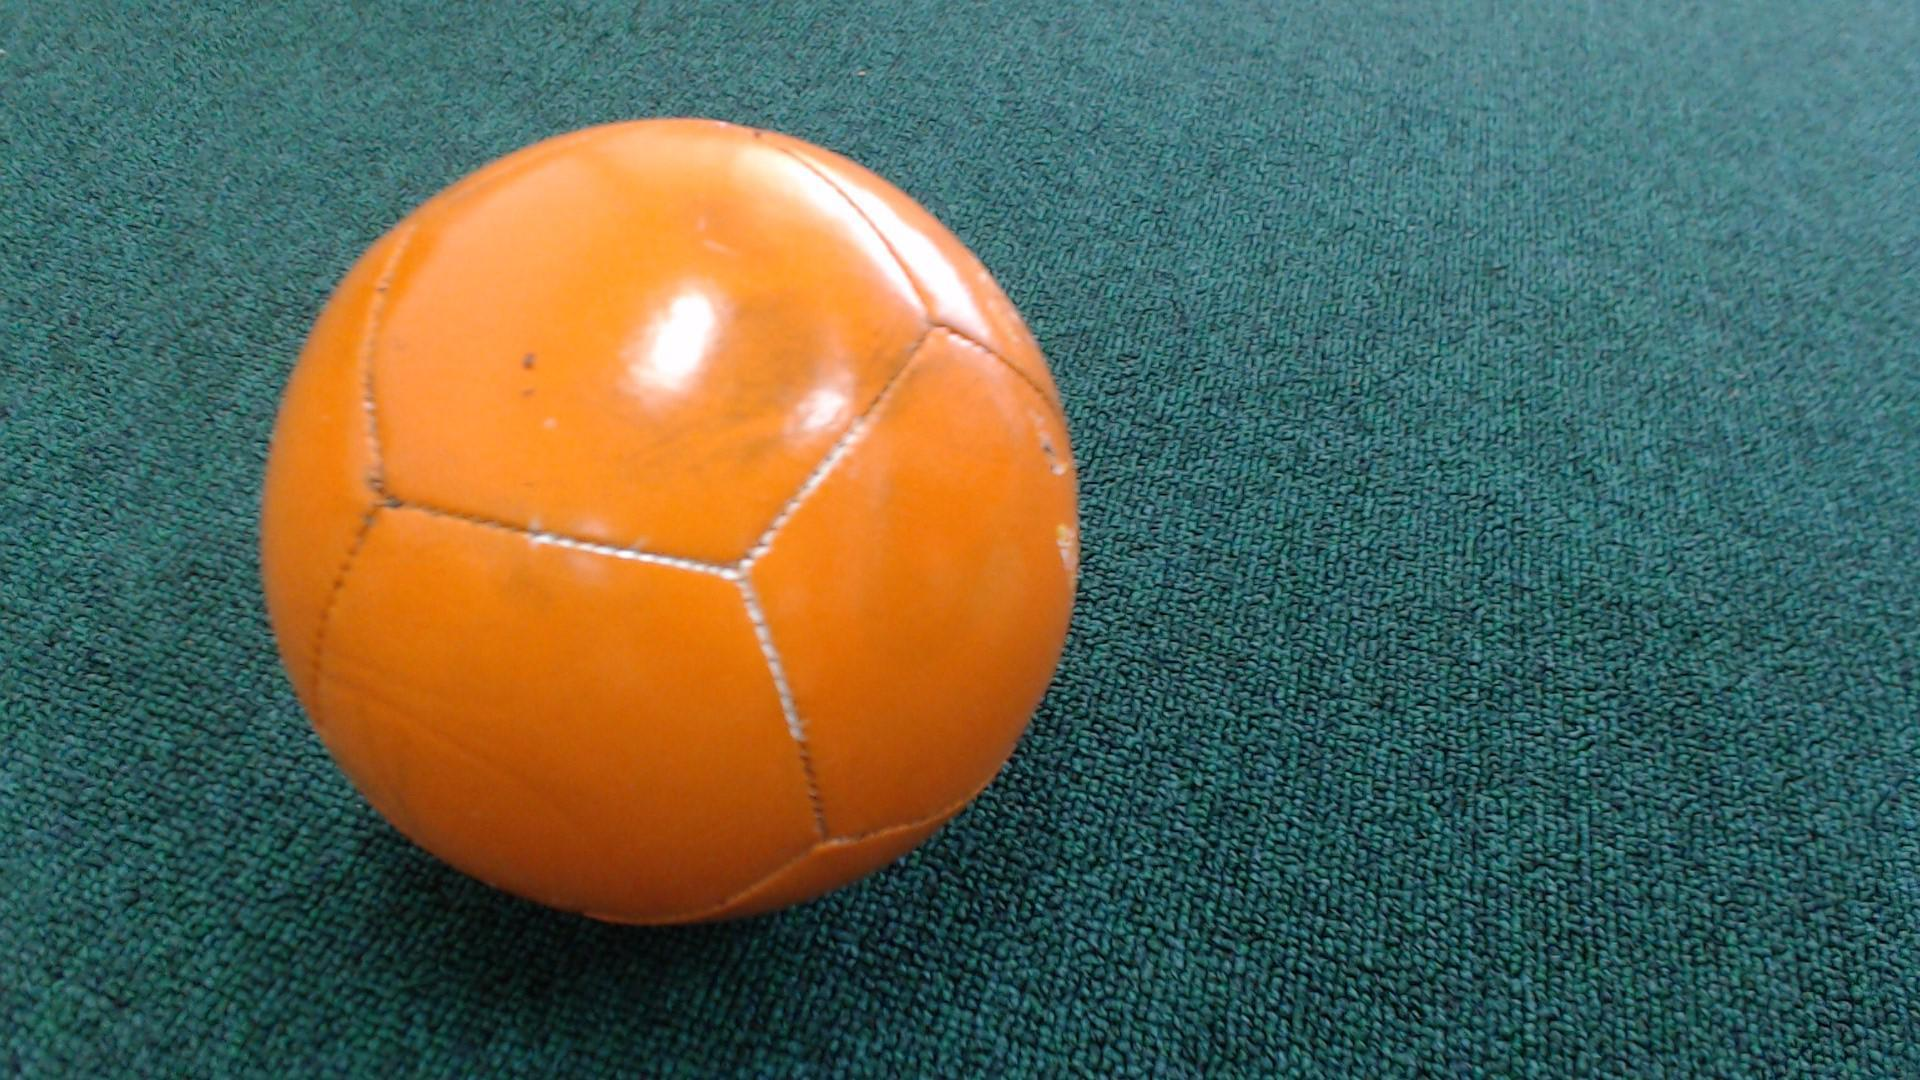bola: (235, 102, 1141, 957)
